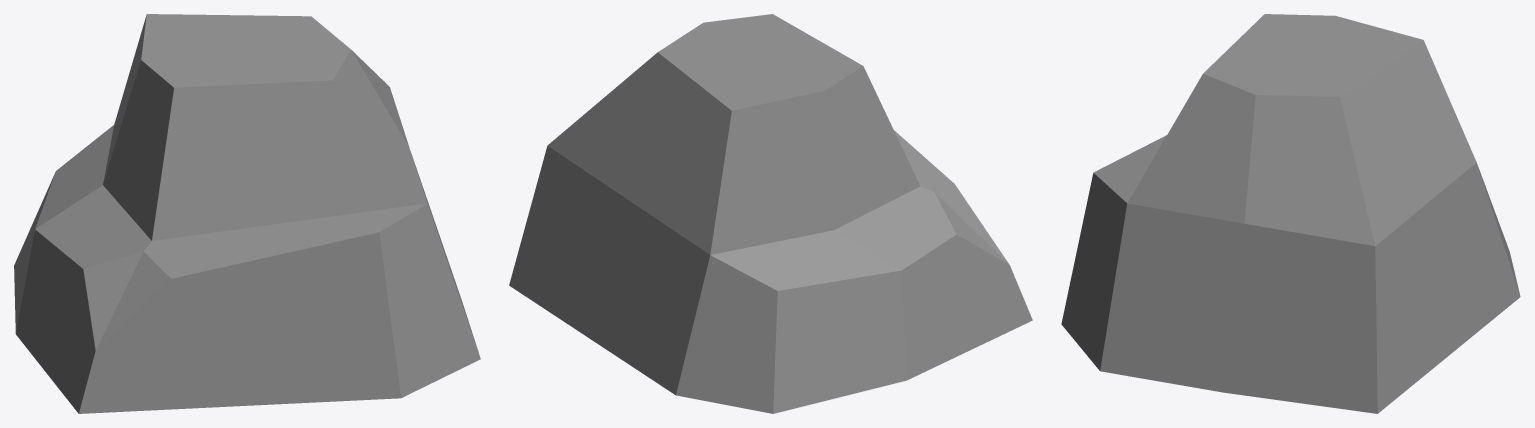
File: Rock_02.fbx
The picture shows the model from 3 angles, left to right: view 1: azimuth 30°, elevation 25°; view 2: azimuth 150°, elevation 25°; view 3: azimuth 270°, elevation 25°; orthographic projection. The views are drawn at different scales.
Parts seen in each view (by area): view 1: Rock_02; view 2: Rock_02; view 3: Rock_02.
Part boxes in pixels (box(x1,y1,x2,y2)): Rock_02: box(14, 14, 480, 413); Rock_02: box(509, 14, 1032, 413); Rock_02: box(1061, 14, 1520, 413).
Size of the model in its own units: 158 by 88.3 by 145.
